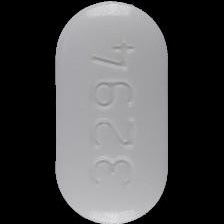0591-3294: (0, 0, 224, 224)
